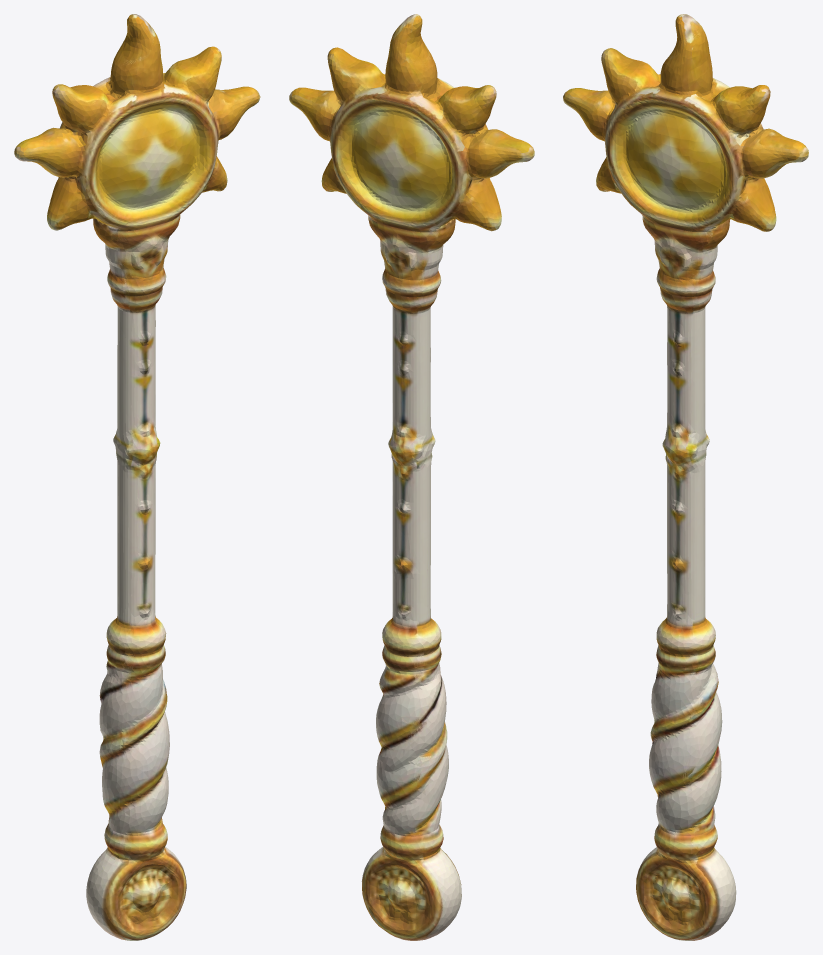
File: wand_sun.glb
3 views of the same model, side by side, from view 1: azimuth 30°, elevation 25°; view 2: azimuth 150°, elevation 25°; view 3: azimuth 330°, elevation 25° (orthographic).
Visible parts, largest first — view 1: tmpjnimbccx.ply; view 2: tmpjnimbccx.ply; view 3: tmpjnimbccx.ply.
Part boxes in pixels (x1,y1,x2,y2): tmpjnimbccx.ply: [14, 14, 260, 940]; tmpjnimbccx.ply: [289, 14, 534, 940]; tmpjnimbccx.ply: [563, 14, 808, 940].
Bounding box in the file's own units: 0.2762 × 1 × 0.0765.
Materials: 1 (1 with a texture image).
